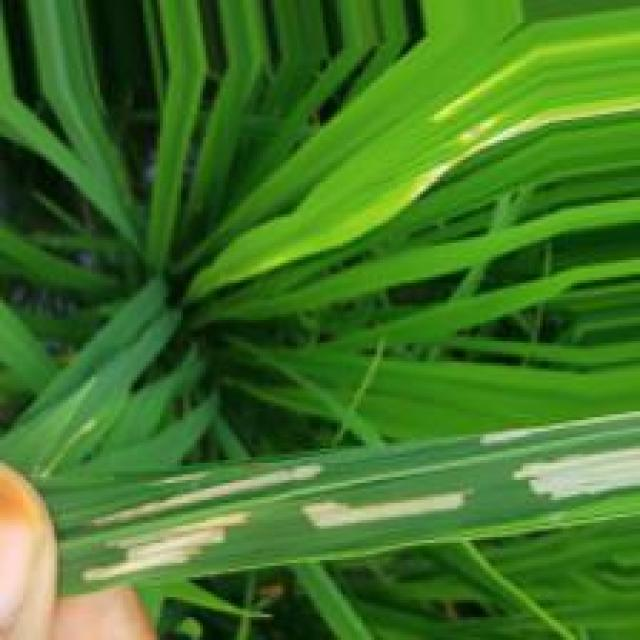Rice_Hispa: (97, 460, 322, 523), (82, 508, 254, 581), (302, 489, 465, 534), (517, 442, 640, 501), (485, 418, 636, 449)
